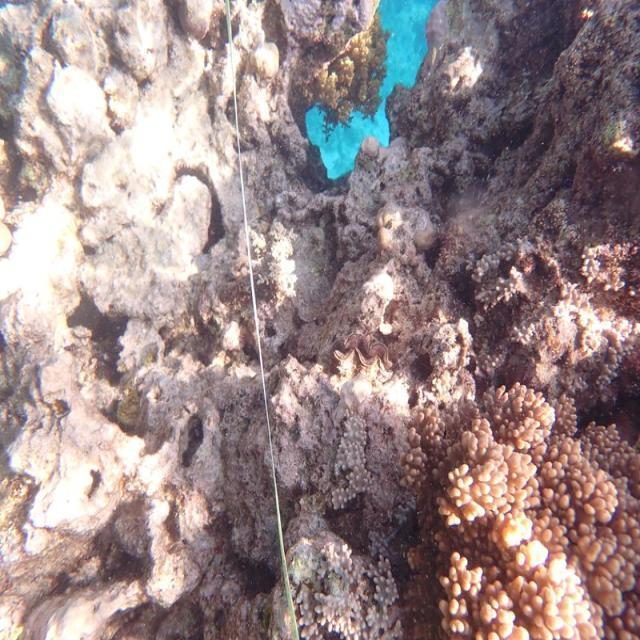Healthy Coral: (425, 391, 640, 640)
